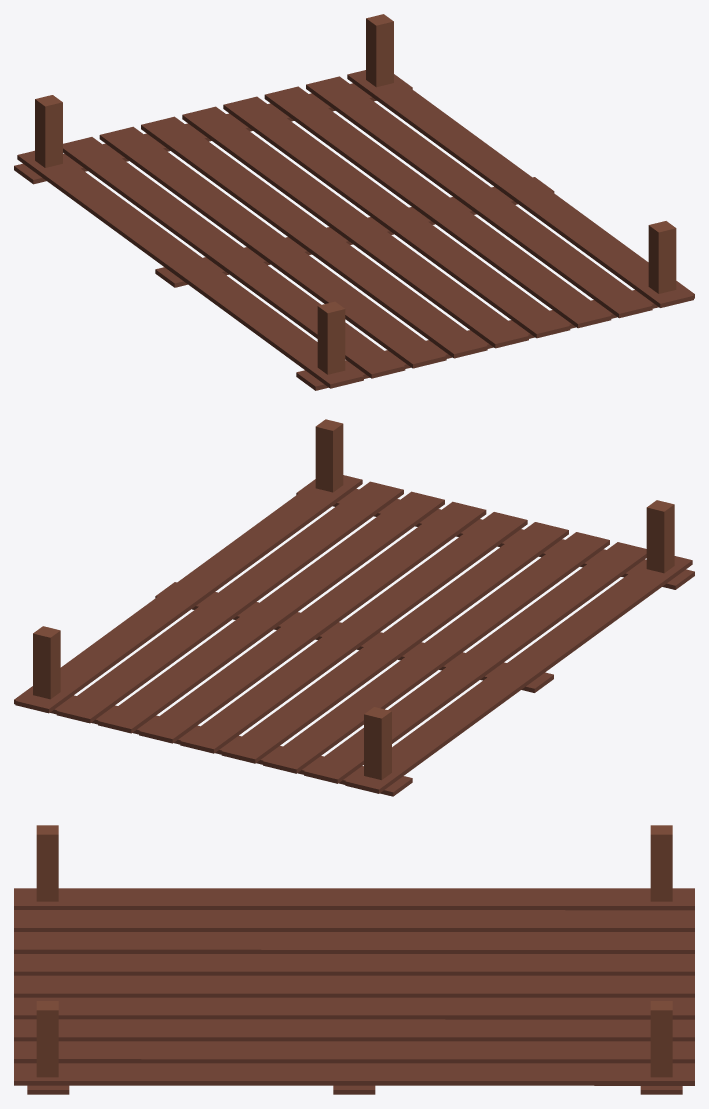
The model's file is drope zone_wood.fbx.
3 renders of one model, top to bottom at view 1: azimuth 30°, elevation 25°; view 2: azimuth 150°, elevation 25°; view 3: azimuth 270°, elevation 25°, orthographic. The views are drawn at different scales.
Visible parts, largest first — view 1: fish spot.004; view 2: fish spot.004; view 3: fish spot.004.
Boxes of the visible parts, bbox=[...] form: fish spot.004: bbox=[14, 14, 694, 390]; fish spot.004: bbox=[14, 419, 694, 796]; fish spot.004: bbox=[14, 825, 694, 1094].
Bounding box in the file's own units: 210 × 37.3 × 300.
